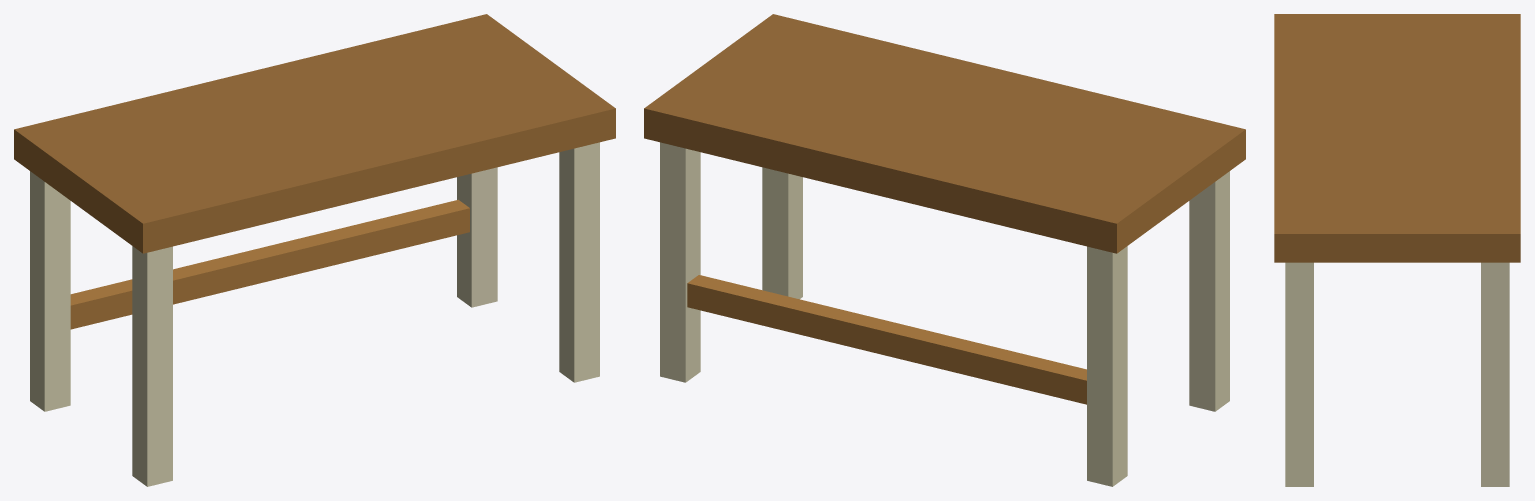
Rendered from C_Table_Wide.fbx.
The picture shows the model from 3 angles, left to right: view 1: azimuth 30°, elevation 25°; view 2: azimuth 150°, elevation 25°; view 3: azimuth 270°, elevation 25°; orthographic projection. The views are drawn at different scales.
Parts seen in each view (by area): view 1: C_Table_Wide.004; view 2: C_Table_Wide.004; view 3: C_Table_Wide.004.
Part boxes in pixels (x1,y1,x2,y2): C_Table_Wide.004: [14, 14, 615, 486]; C_Table_Wide.004: [644, 14, 1245, 486]; C_Table_Wide.004: [1274, 14, 1520, 486].
Size of the model in its own units: 1.65 by 0.9 by 0.78.
